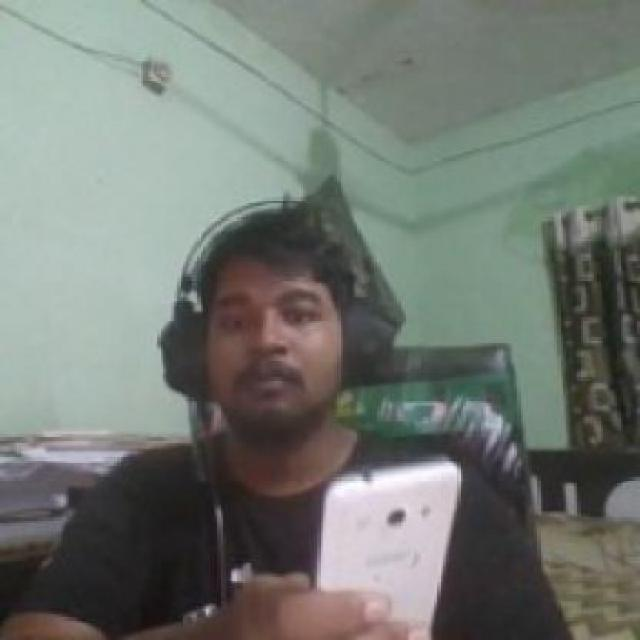Phone: (315, 460, 465, 640)
